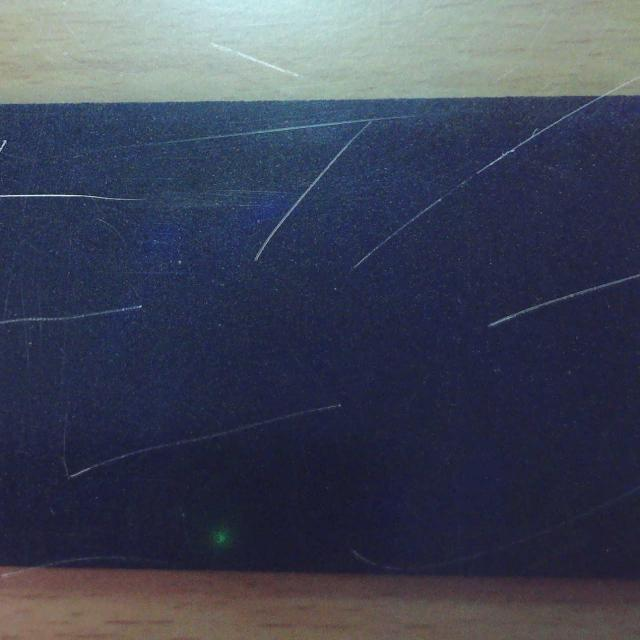defect: (350, 93, 610, 272), (351, 483, 639, 573), (69, 401, 343, 478), (253, 121, 374, 261), (99, 114, 419, 154), (486, 272, 640, 328), (0, 305, 144, 326), (39, 555, 173, 569), (1, 193, 144, 204), (71, 148, 97, 159), (0, 136, 9, 155)
